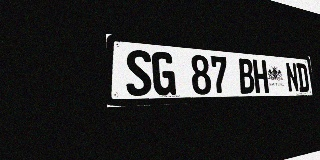7: (209, 56, 229, 94)
8: (190, 54, 212, 95)
B: (237, 58, 255, 94)
D: (296, 63, 309, 92)
G: (151, 51, 176, 96)
H: (252, 59, 269, 93)
N: (285, 62, 299, 92)
S: (125, 49, 152, 96)
